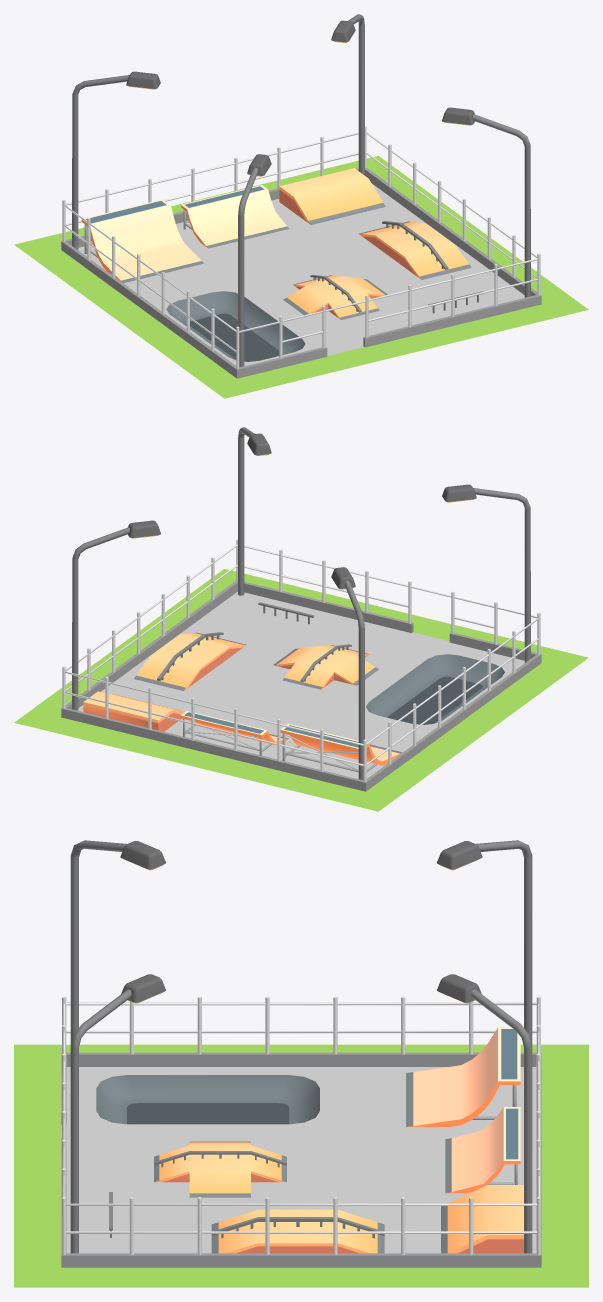
Rendered from Entertainment_SkatePark_01.glb.
The picture shows the model from 3 angles, top to bottom: view 1: azimuth 30°, elevation 25°; view 2: azimuth 150°, elevation 25°; view 3: azimuth 270°, elevation 25°; orthographic projection. The views are drawn at different scales.
Visible parts, largest first — view 1: Entertainment_SkatePark_01; view 2: Entertainment_SkatePark_01; view 3: Entertainment_SkatePark_01.
Boxes of the visible parts, bbox=[...] form: Entertainment_SkatePark_01: bbox=[14, 14, 588, 398]; Entertainment_SkatePark_01: bbox=[14, 427, 588, 811]; Entertainment_SkatePark_01: bbox=[14, 840, 588, 1287].
Size of the model in its own units: 15 by 7.76 by 15.
Materials: 2 (2 with a texture image).
